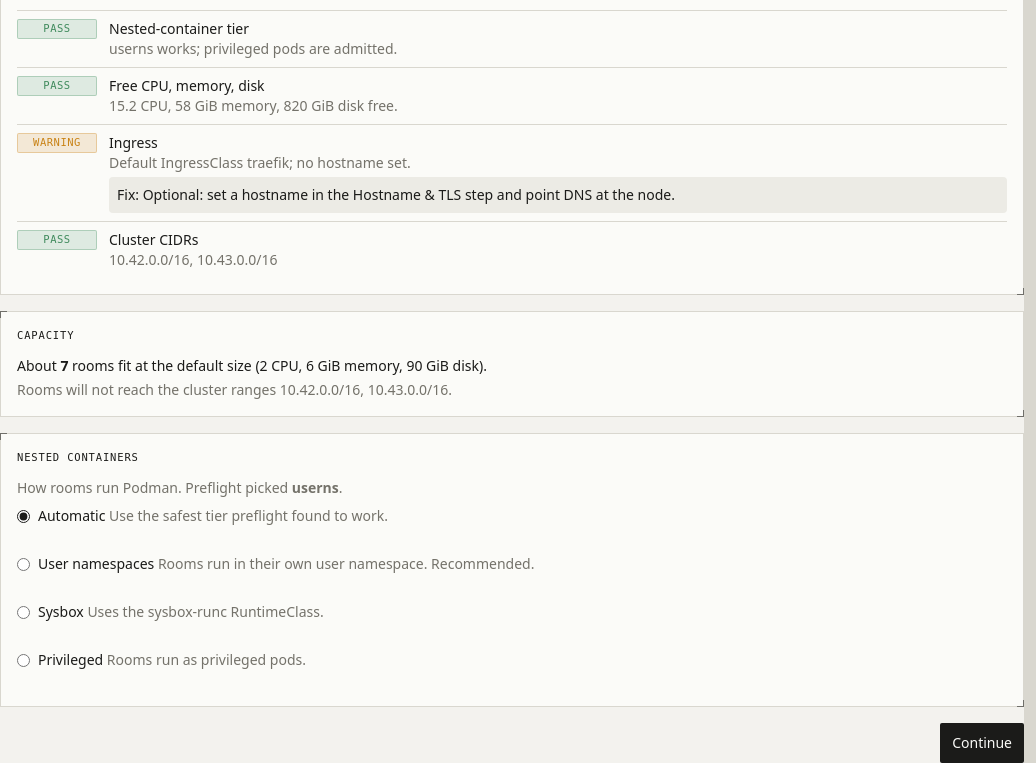
PreflightStep › shows the kubectl command only when storing the tier fails
(page scrolled)
Expected: the text "kubectl patch" is not shown
Click the radio button labelled "User namespaces" at (24, 564), box [17,558,30,570]
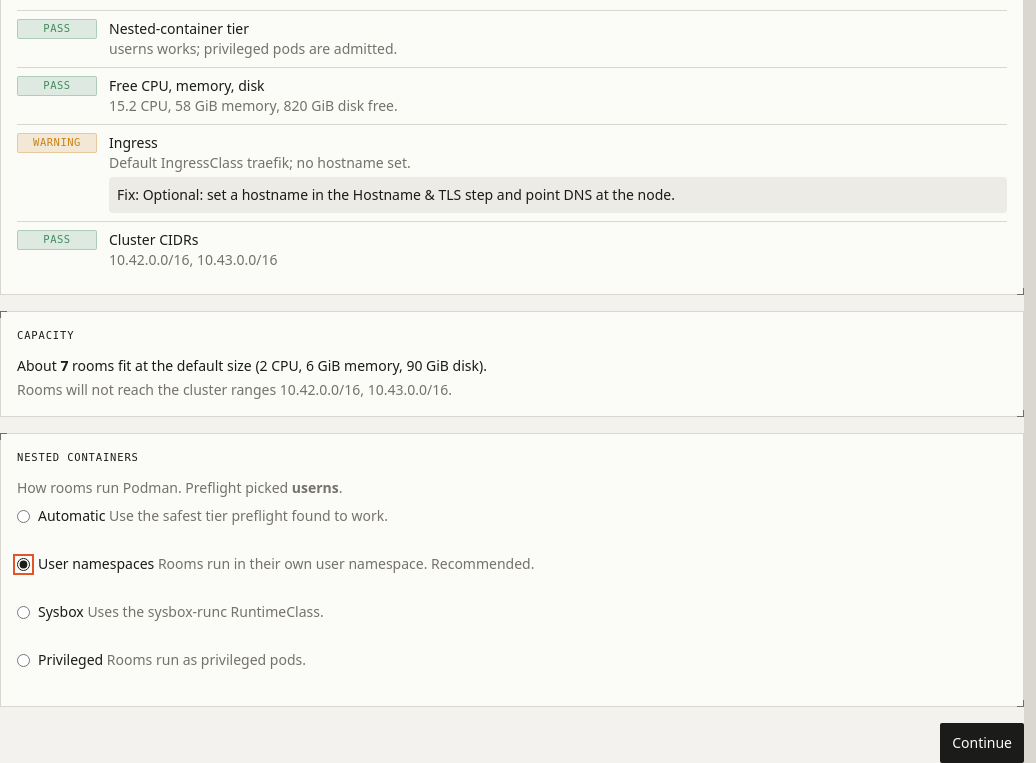
Click the button "Continue" at (982, 742), box [940,722,1024,762]
(page scrolled)
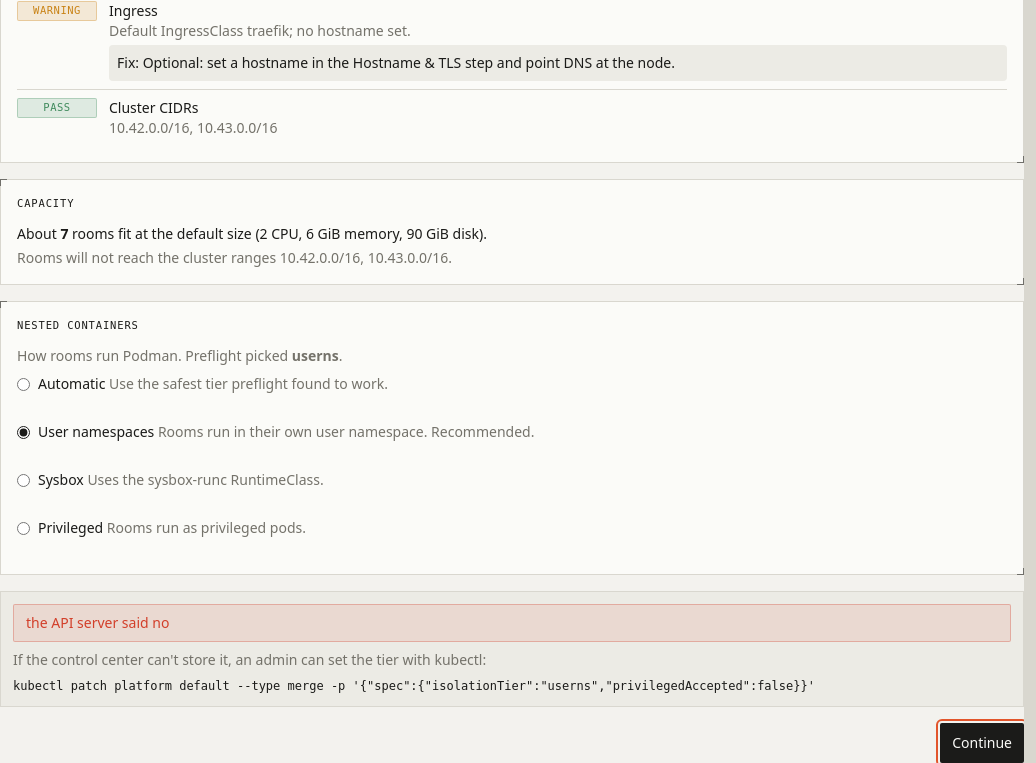
Now the text "the API server said no" is shown, box [13,604,1011,642]
Now the text "kubectl patch platform default" shows "\"isolationTier\":\"userns\"", box [13,678,815,692]
